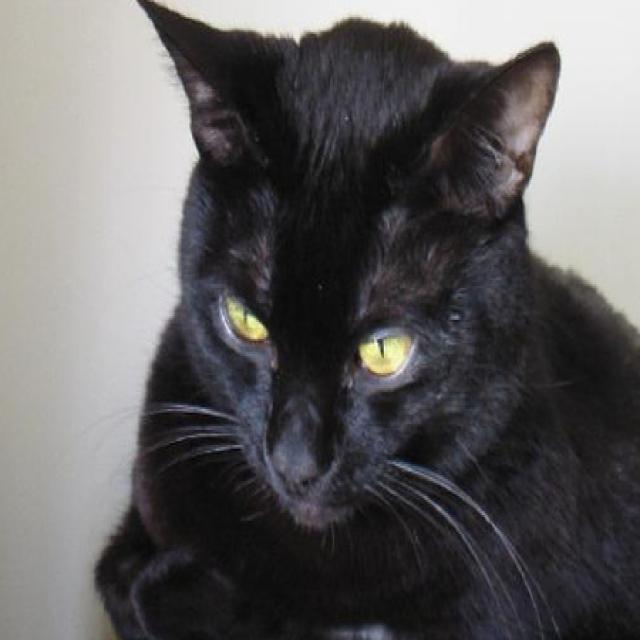Bombay: (92, 0, 640, 640)
